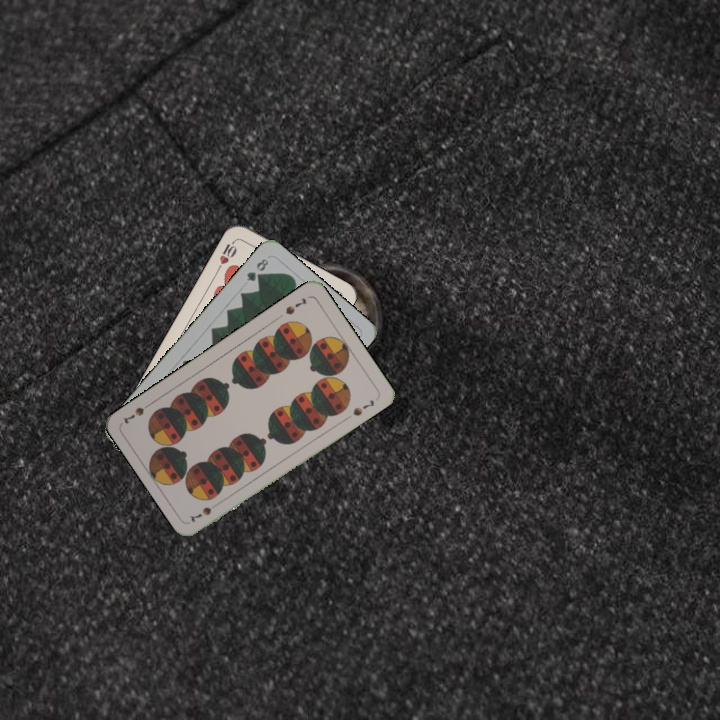G8: (242, 254, 271, 284)
H10: (213, 235, 239, 273)
S7: (186, 499, 223, 525), (281, 294, 310, 317)
